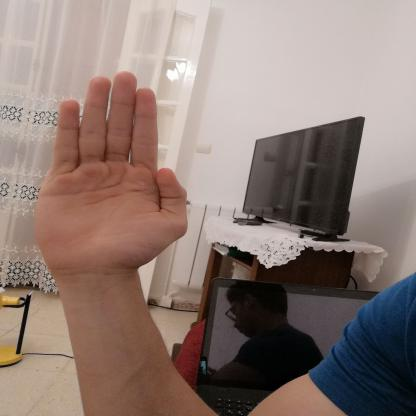SEEN: (20, 63, 199, 288)
